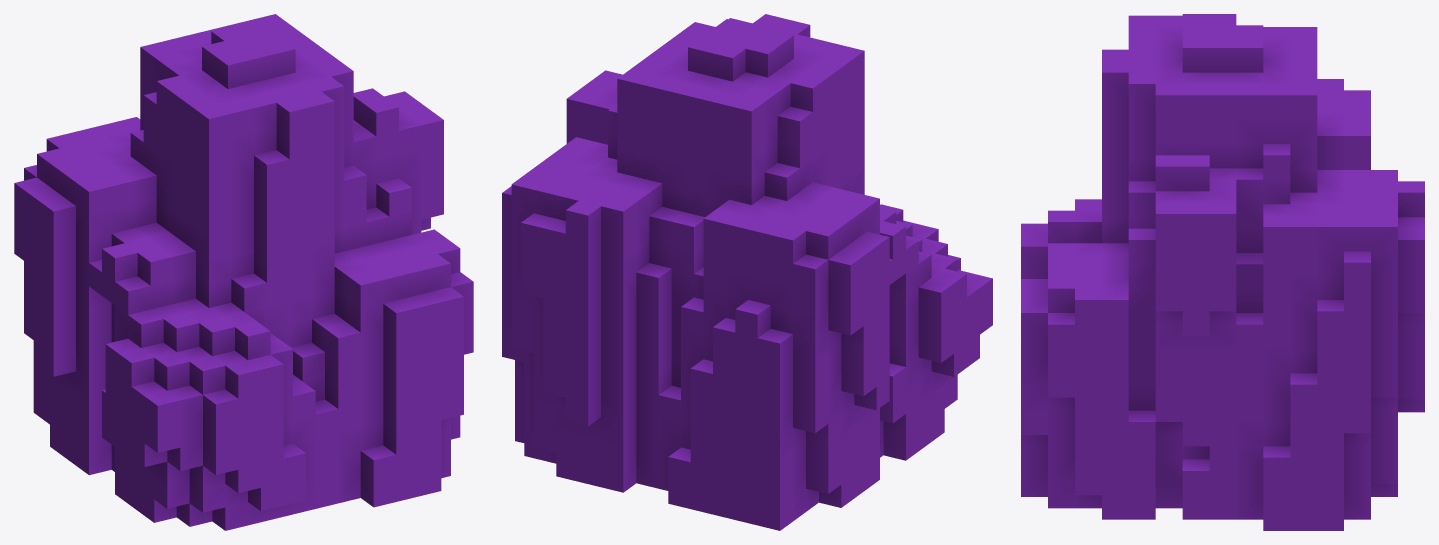
File: crystal.glb
3 views of the same model, side by side, from view 1: azimuth 30°, elevation 25°; view 2: azimuth 150°, elevation 25°; view 3: azimuth 270°, elevation 25° (orthographic). The views are drawn at different scales.
Visible parts, largest first — view 1: voxels; view 2: voxels; view 3: voxels.
Part boxes in pixels (left/top/right/bottom): voxels: left=14, top=14, right=473, bottom=530; voxels: left=502, top=14, right=992, bottom=530; voxels: left=1021, top=14, right=1424, bottom=530.
Size of the model in its own units: 1.55 by 1.76 by 1.55.
